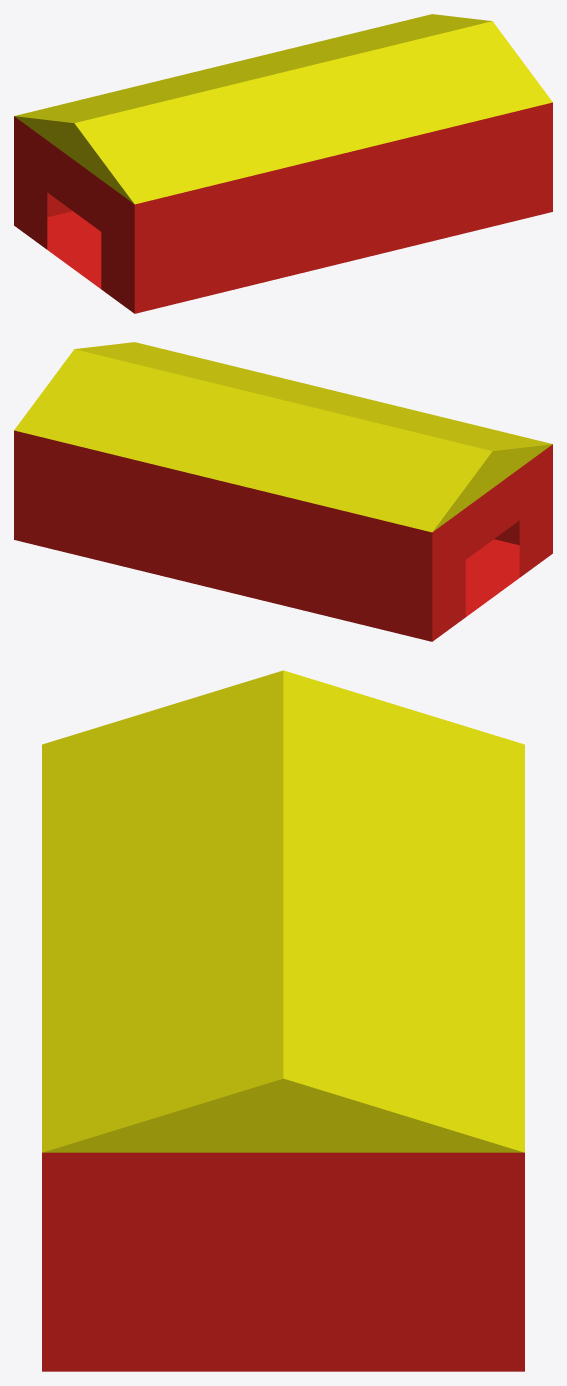
3 renders of one model, top to bottom at view 1: azimuth 30°, elevation 25°; view 2: azimuth 150°, elevation 25°; view 3: azimuth 270°, elevation 25°, orthographic. The views are drawn at different scales.
Visible parts, largest first — view 1: Куб; view 2: Куб; view 3: Куб.
Boxes of the visible parts, bbox=[...] form: Куб: bbox=[14, 14, 552, 313]; Куб: bbox=[14, 342, 552, 641]; Куб: bbox=[42, 670, 524, 1371].
Size of the model in its own units: 8 by 2.68 by 4.
